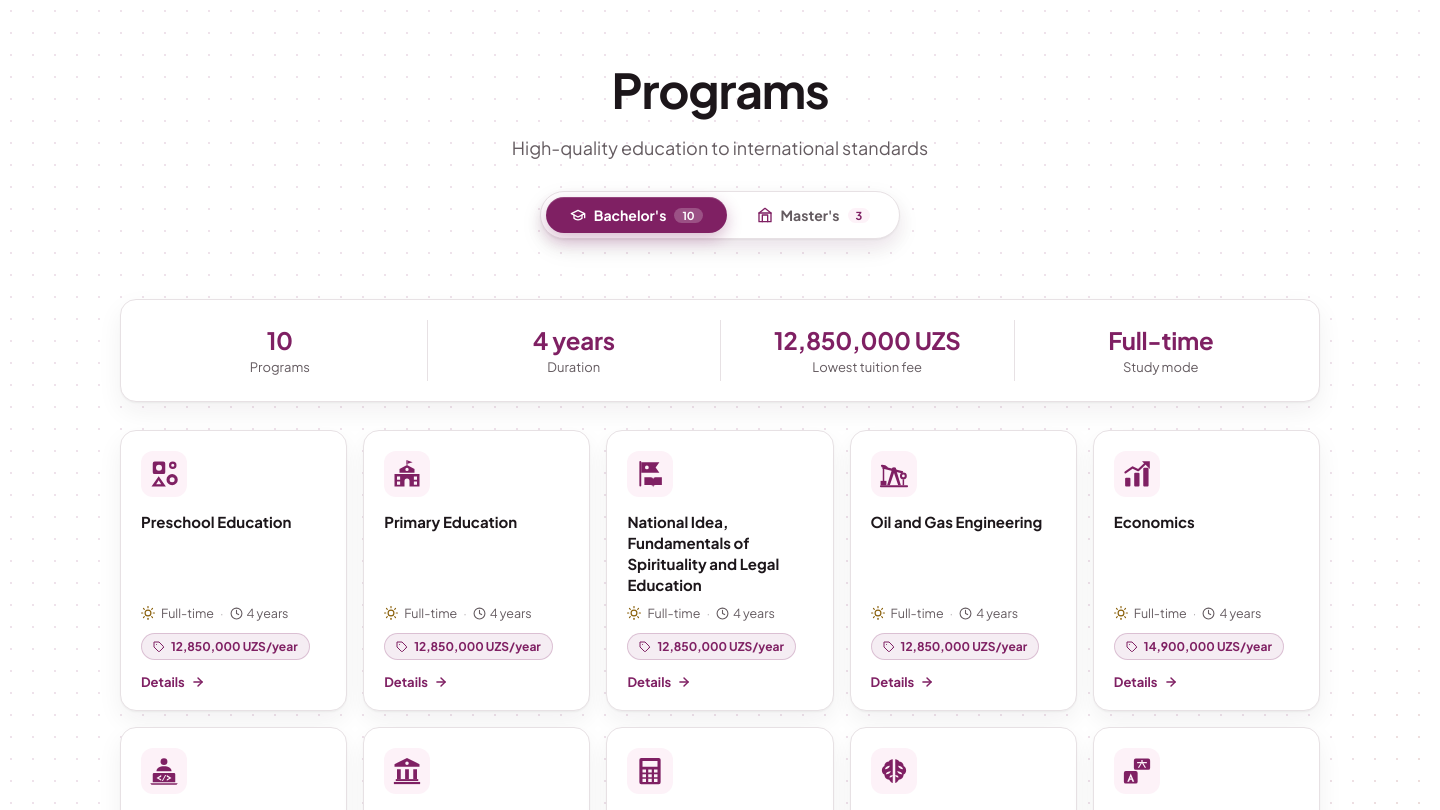
Faculty (EN) › Master's tabi va modal: matn, fanlar, kasblar inglizcha; Escape yopadi
Click the button "Master's 3" at (813, 215), box [733,197,894,233]
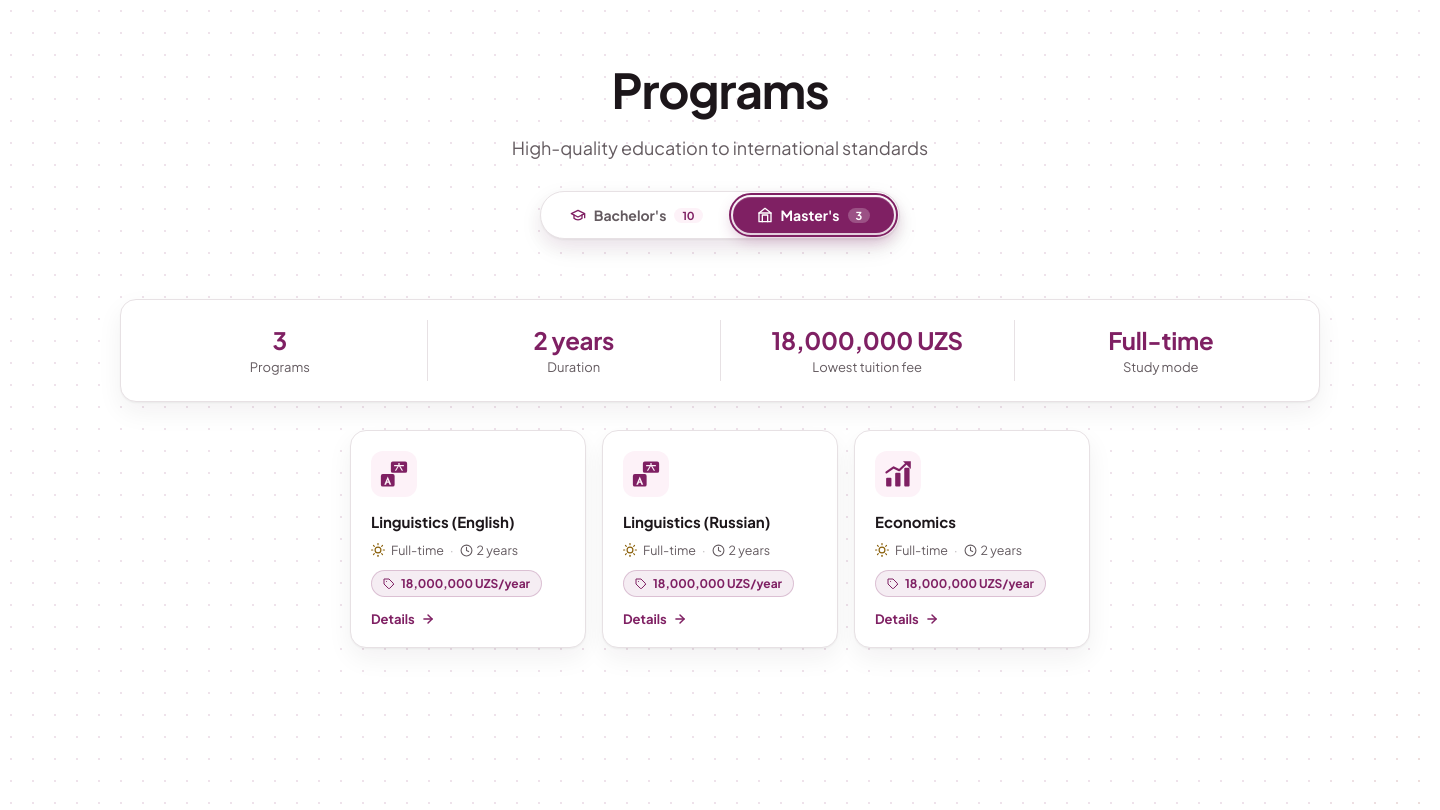
Expected: the button "Preschool Education" is gone
Expected: the text "2 years" is shown, [533,325,614,355]
Click the heading "Linguistics (English)" at (443, 522), box [371,512,515,531]
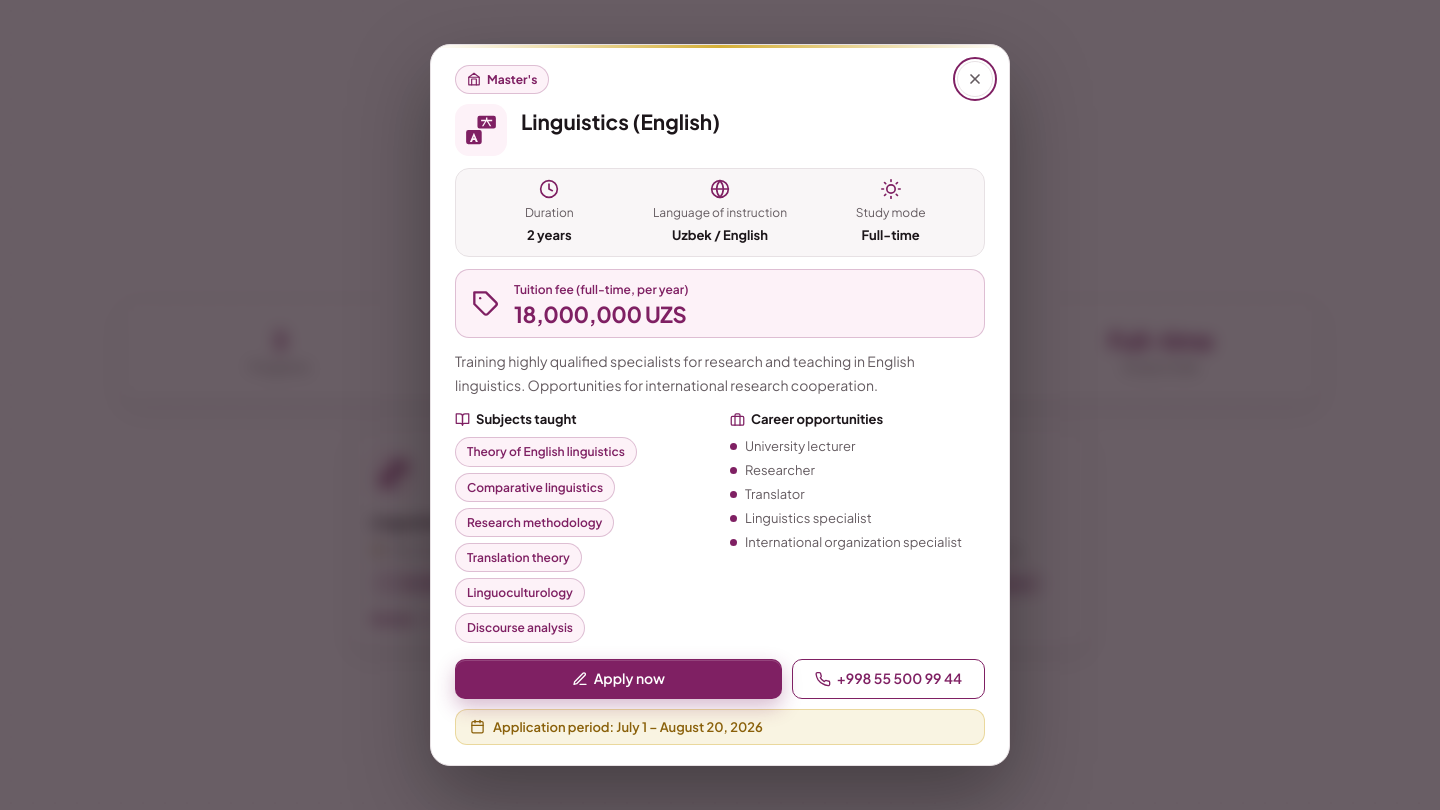
Expected: the heading "Linguistics (English)" is shown, [521,104,720,135]
Expected: the text "Tuition fee (full-time, per year)" is shown, [514,280,688,299]
Expected: the text "18,000,000 UZS" is shown, [514,301,688,327]
Press Escape
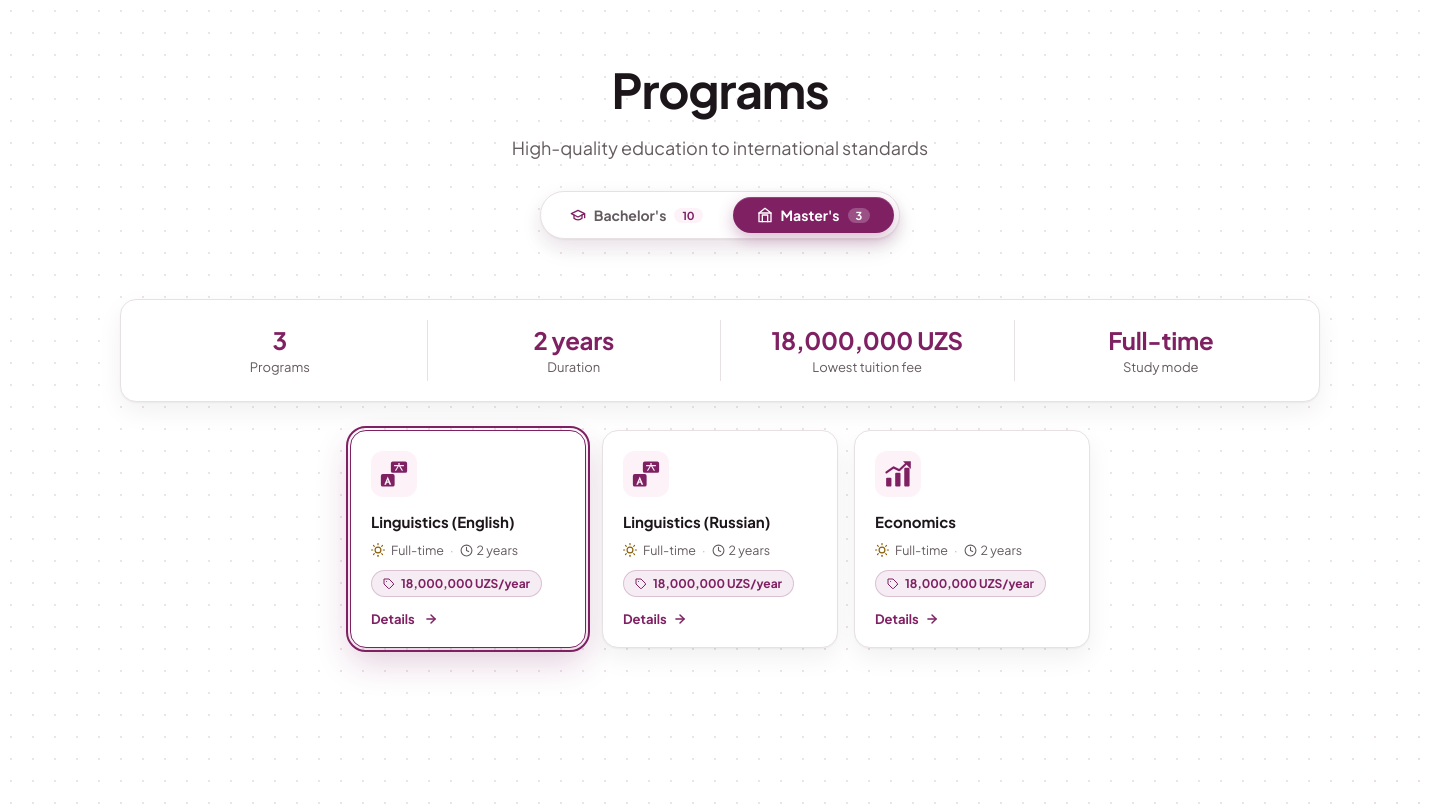
Expected: the dialog is gone
